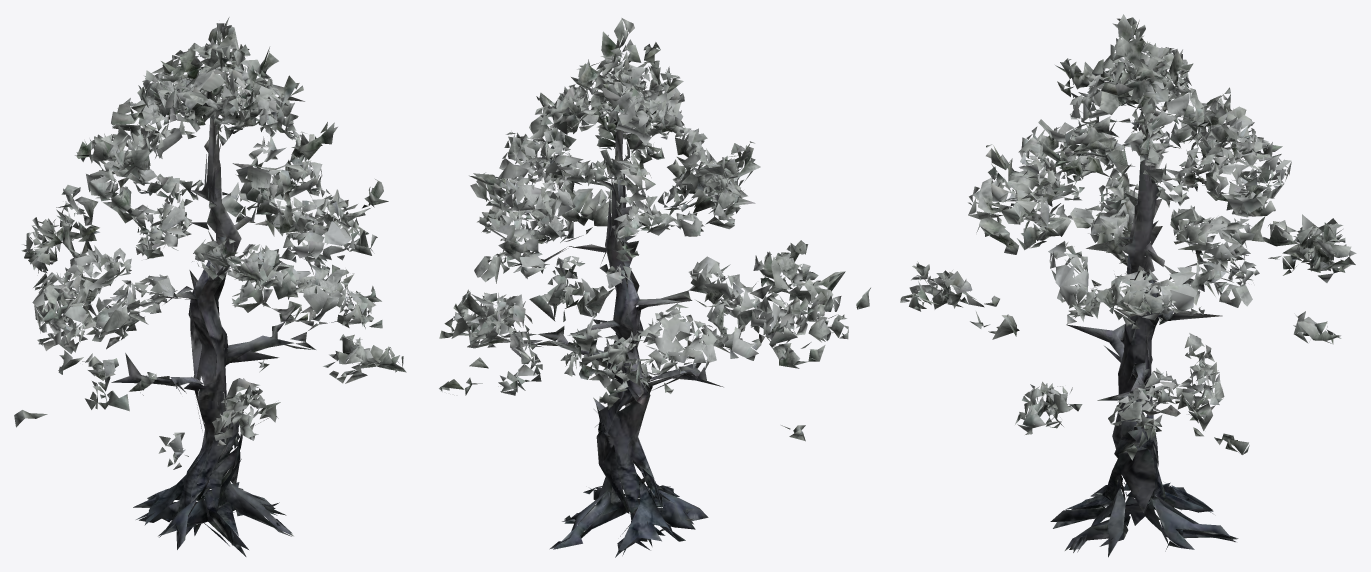
The model's file is pinheiro_cinza_adulta.glb.
3 views of the same model, side by side, from view 1: azimuth 30°, elevation 25°; view 2: azimuth 150°, elevation 25°; view 3: azimuth 270°, elevation 25° (orthographic). The views are drawn at different scales.
Visible parts, largest first — view 1: geometry_0; view 2: geometry_0; view 3: geometry_0.
Part boxes in pixels (x1,y1,x2,y2): geometry_0: [14, 17, 406, 556]; geometry_0: [439, 18, 870, 557]; geometry_0: [900, 14, 1356, 557].
Size of the model in its own units: 0.735 by 0.9949 by 0.7828.
1 material, 1 textured.
